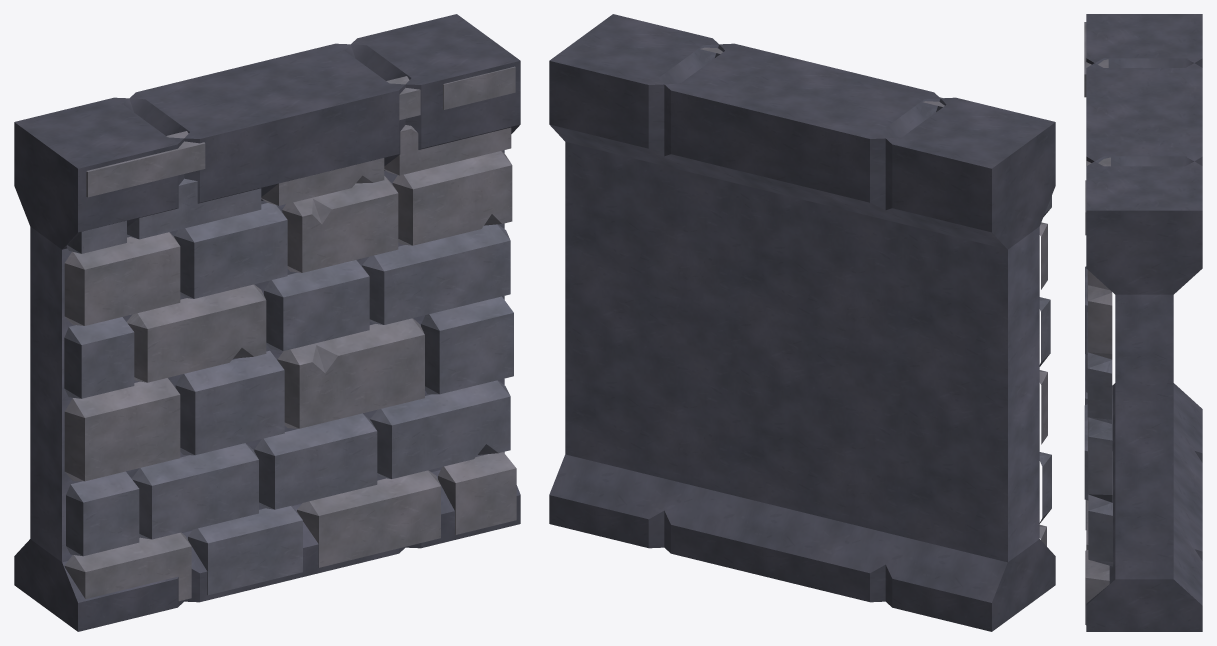
File: wall.gltf
3 renders of one model, left to right at view 1: azimuth 30°, elevation 25°; view 2: azimuth 150°, elevation 25°; view 3: azimuth 270°, elevation 25°, orthographic. The views are drawn at different scales.
Parts seen in each view (by area): view 1: wall; view 2: wall; view 3: wall.
Boxes of the visible parts, <box> form: wall: <box>14,14,520,631</box>; wall: <box>549,14,1055,631</box>; wall: <box>1084,14,1202,631</box>.
Size of the model in its own units: 4 by 4.02 by 1.02.
4 materials, 4 textured.
